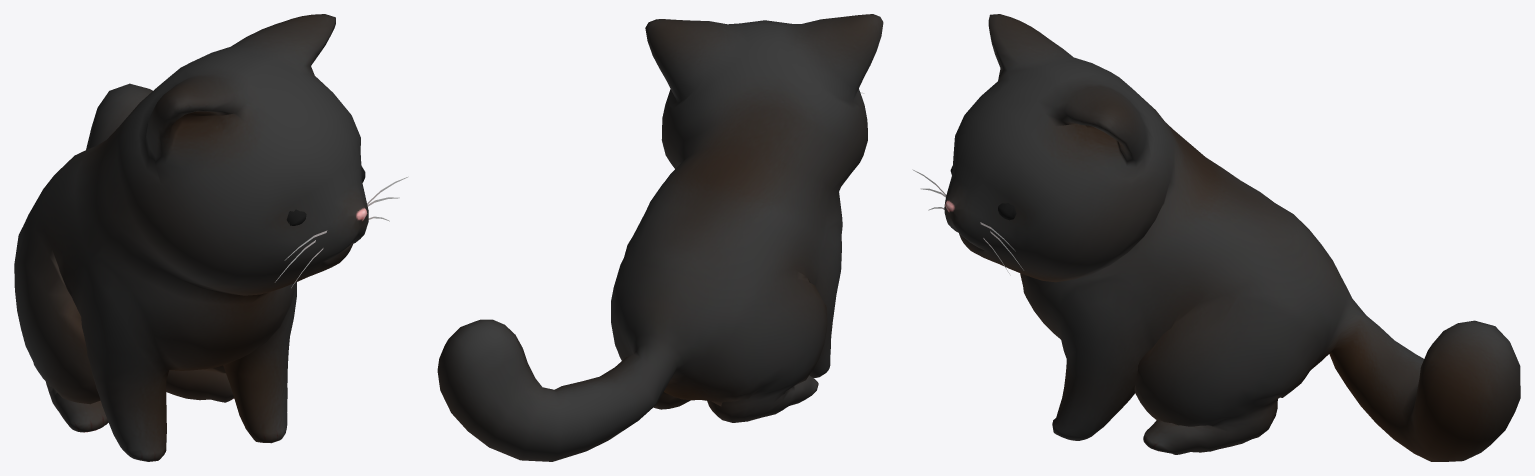
Rendered from gato3-teste.obj.
3 renders of one model, left to right at view 1: azimuth 30°, elevation 25°; view 2: azimuth 150°, elevation 25°; view 3: azimuth 270°, elevation 25°, orthographic. The views are drawn at different scales.
Parts seen in each view (by area): view 1: fat_cat_white2_Cat03_0; view 2: fat_cat_white2_Cat03_0; view 3: fat_cat_white2_Cat03_0.
Boxes of the visible parts, x1,y1,x2,y2 form: fat_cat_white2_Cat03_0: (14,14,408,461); fat_cat_white2_Cat03_0: (437,14,883,461); fat_cat_white2_Cat03_0: (912,14,1520,461).
Bounding box in the file's own units: 0.4373 × 0.5679 × 0.832.
1 material, 1 textured.
